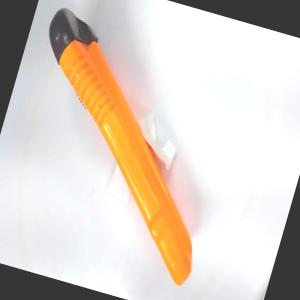estilete: (0, 2, 251, 287)
